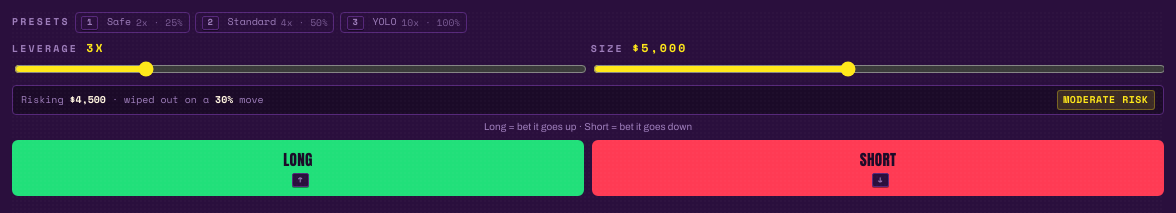
TradeDeck.jsx › keeps the close button live immediately after opening, with no server round trip
Click the button "Long ↑". click: (298,168)
box: [12, 140, 584, 196]
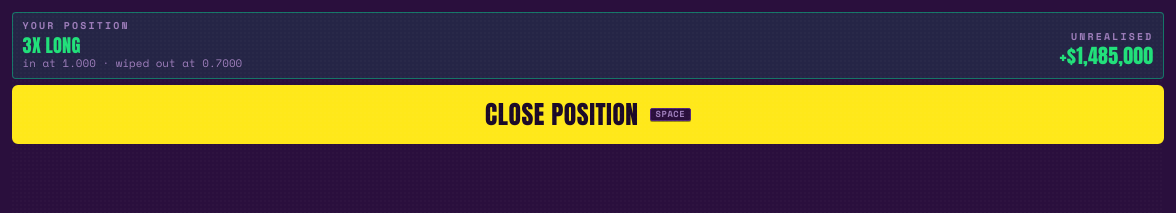
Result: the button "Close Position Space" is enabled at [12, 85, 1164, 144]
